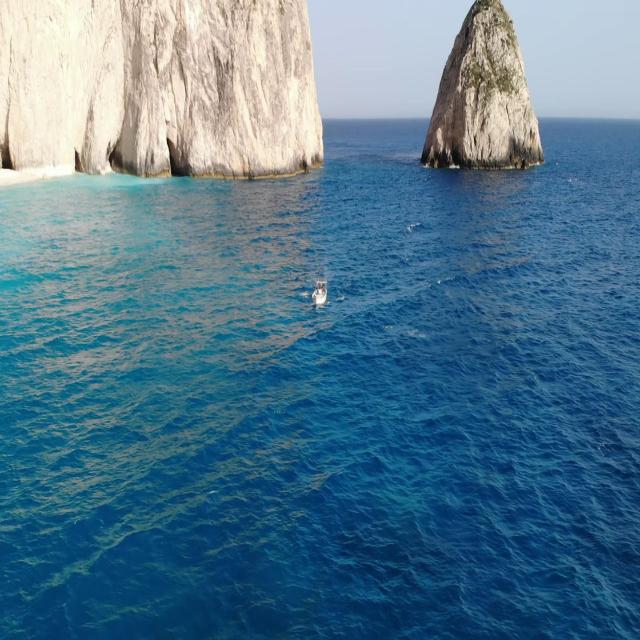boat: (312, 273, 328, 306)
